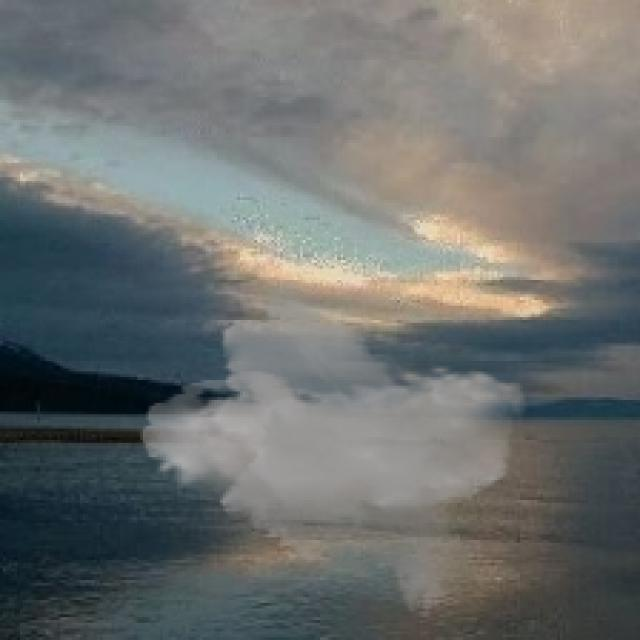smoke: (140, 277, 529, 620)
